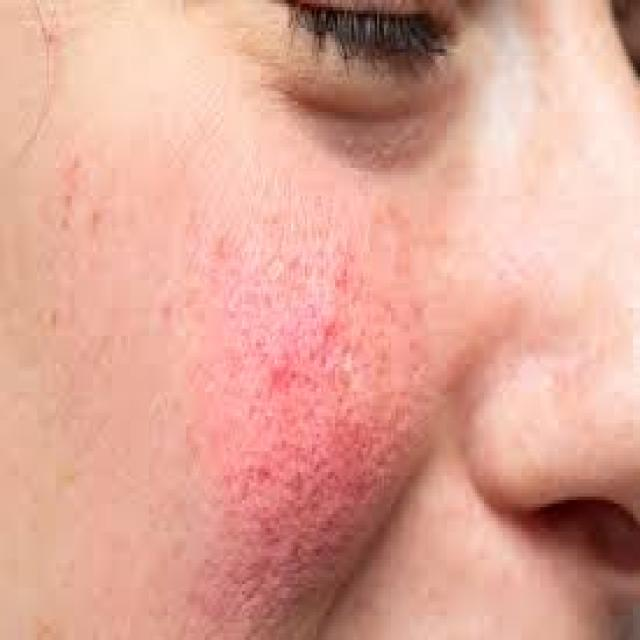Eczema Mild: (196, 227, 444, 640)
